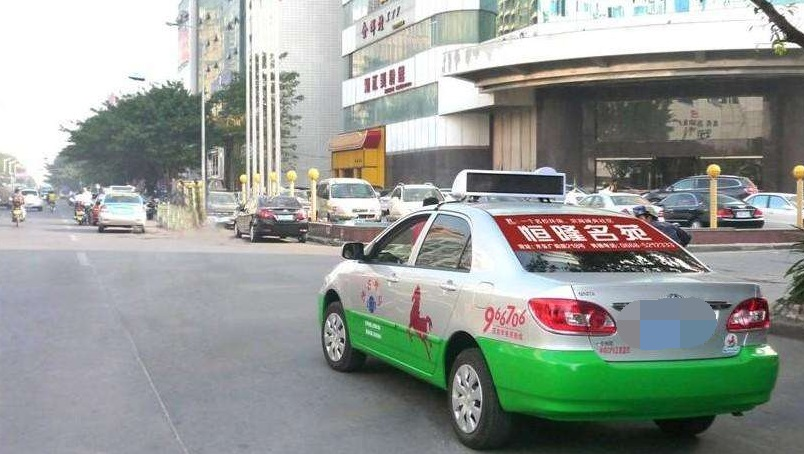taxi: (306, 165, 785, 445)
